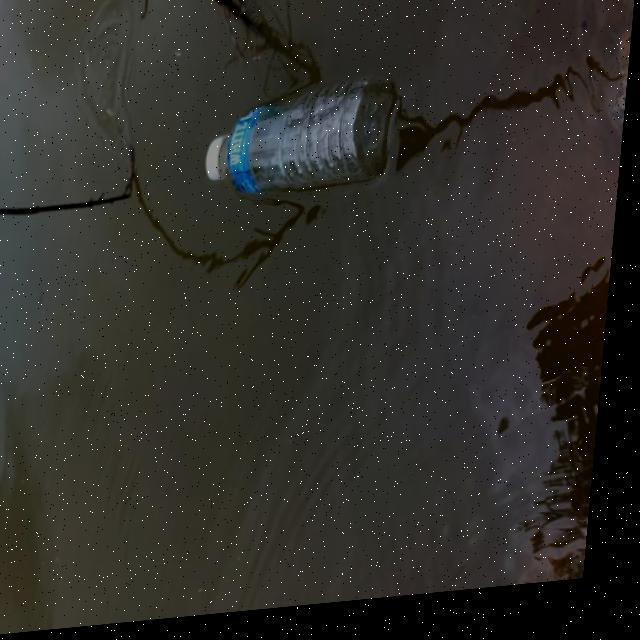paper: (194, 91, 413, 217)
